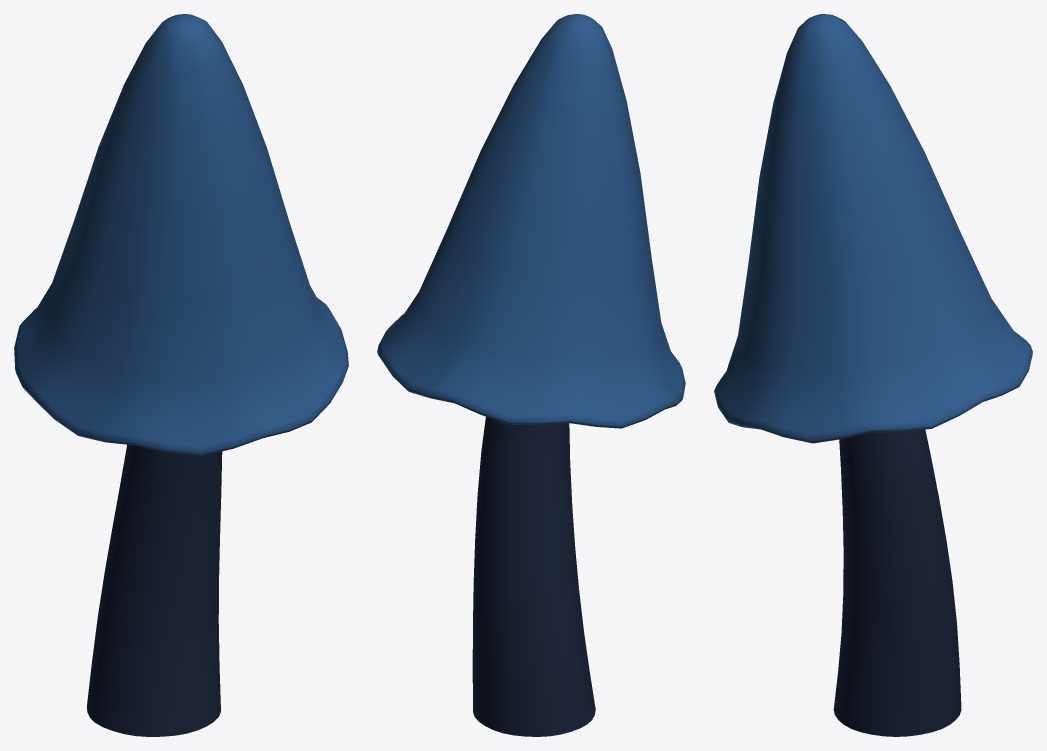
Rendered from BlueMush_A.fbx.
The picture shows the model from 3 angles, left to right: view 1: azimuth 30°, elevation 25°; view 2: azimuth 150°, elevation 25°; view 3: azimuth 270°, elevation 25°; orthographic projection. The views are drawn at different scales.
Visible parts, largest first — view 1: BlueMush_A; view 2: BlueMush_A; view 3: BlueMush_A.
Boxes of the visible parts, x1,y1,x2,y2 form: BlueMush_A: (14, 14, 348, 736); BlueMush_A: (377, 14, 685, 736); BlueMush_A: (714, 14, 1032, 736).
Size of the model in its own units: 148 by 147 by 350.
